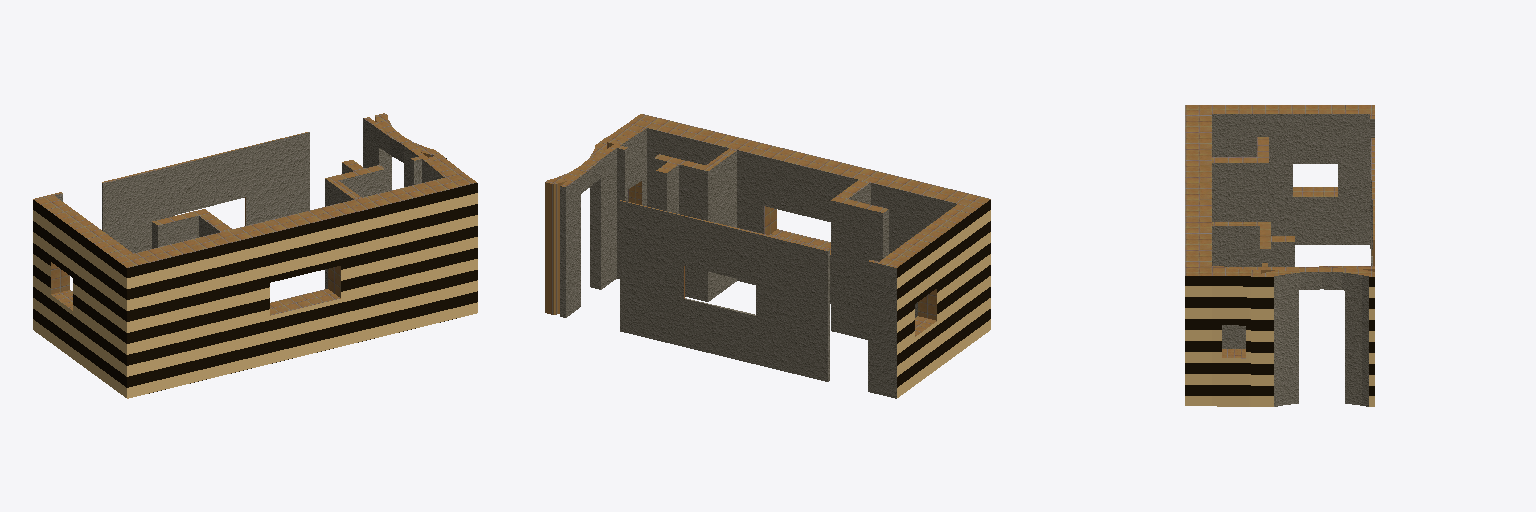
The picture shows the model from 3 angles: view 1: azimuth 30°, elevation 25°; view 2: azimuth 150°, elevation 25°; view 3: azimuth 270°, elevation 25°; orthographic projection.
Parts seen in each view (by area): view 1: petit_salon_f1_Cube_Cube.008; view 2: petit_salon_f1_Cube_Cube.008; view 3: petit_salon_f1_Cube_Cube.008.
Boxes of the visible parts, x1,y1,x2,y2 form: petit_salon_f1_Cube_Cube.008: [33, 113, 477, 398]; petit_salon_f1_Cube_Cube.008: [545, 114, 990, 398]; petit_salon_f1_Cube_Cube.008: [1185, 105, 1374, 406].
Size of the model in its own units: 6.2 by 2.2 by 2.88.
Materials: 3 (3 with a texture image).